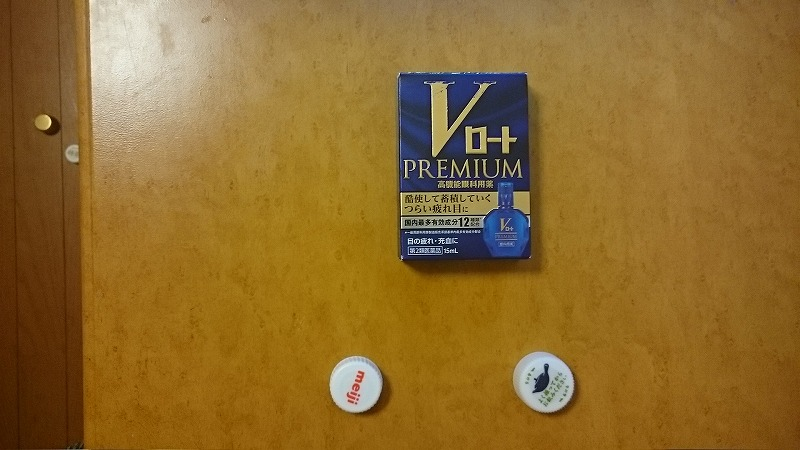A: (506, 350, 588, 419)
B: (325, 350, 395, 419)
D: (390, 70, 548, 269)
